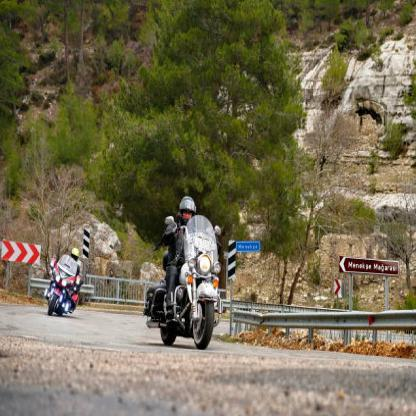Motorcycle: (136, 207, 231, 358), (36, 240, 98, 336)
